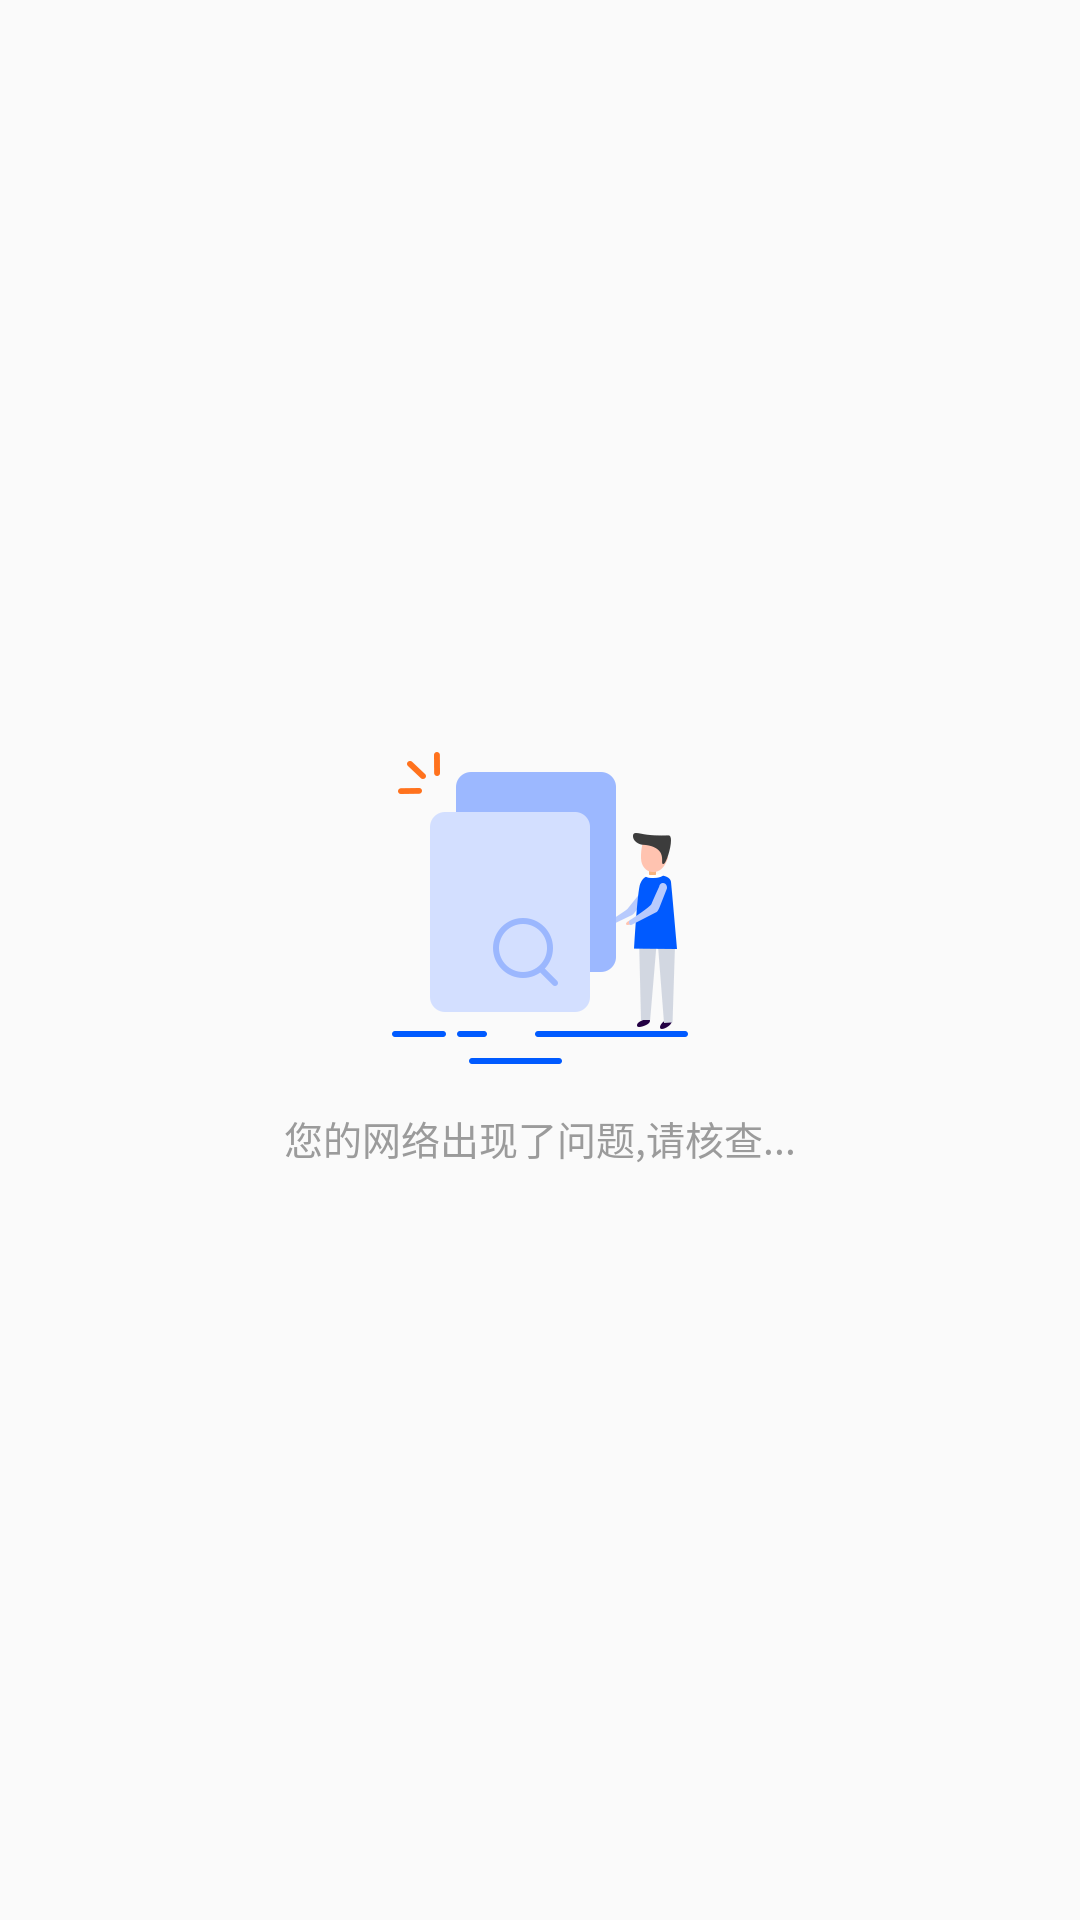

Icon bounding boxes for this 1080w x 1920h phone screenshot, format box=[x1, y1, x2, y2]:
nodata: box=[392, 752, 688, 1064]
